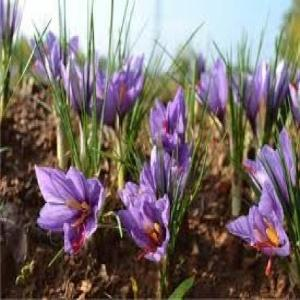Saffron: (32, 164, 103, 247), (228, 185, 293, 258), (122, 193, 172, 259), (191, 57, 233, 121), (234, 60, 270, 123), (110, 62, 146, 113)
